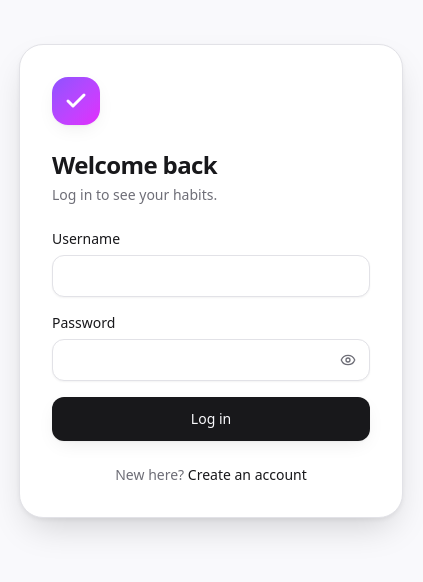
AuthView › says so when the username or password is wrong
Type "ted" into the field labelled "Username".
click(211, 276); type("ted")  # box x1=52 y1=255 x2=370 y2=297
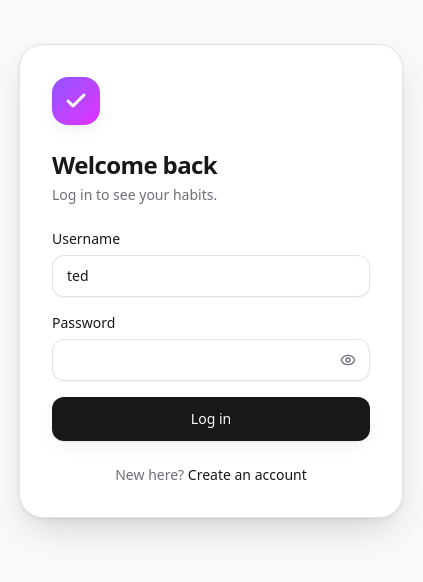
Type "nope" into the password field labelled "Password".
click(211, 360); type("nope")  # box x1=52 y1=339 x2=370 y2=381
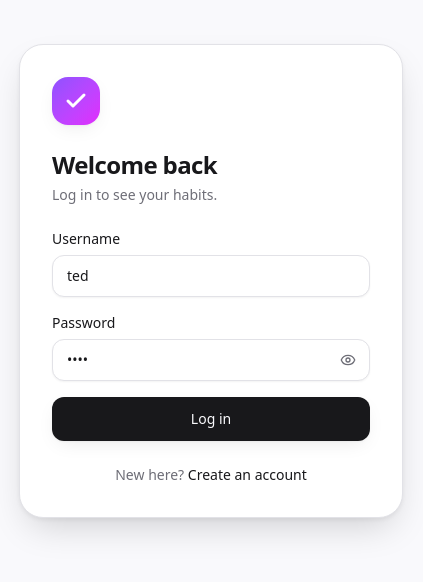
Submit the form, box x1=52 y1=229 x2=370 y2=441
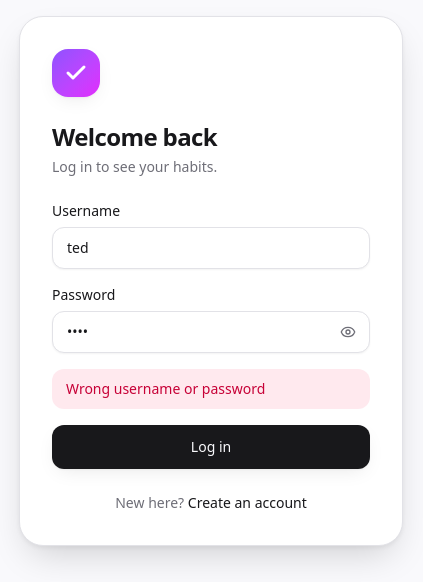
Result: the message "Wrong username or password" is shown at x1=52 y1=369 x2=370 y2=409
